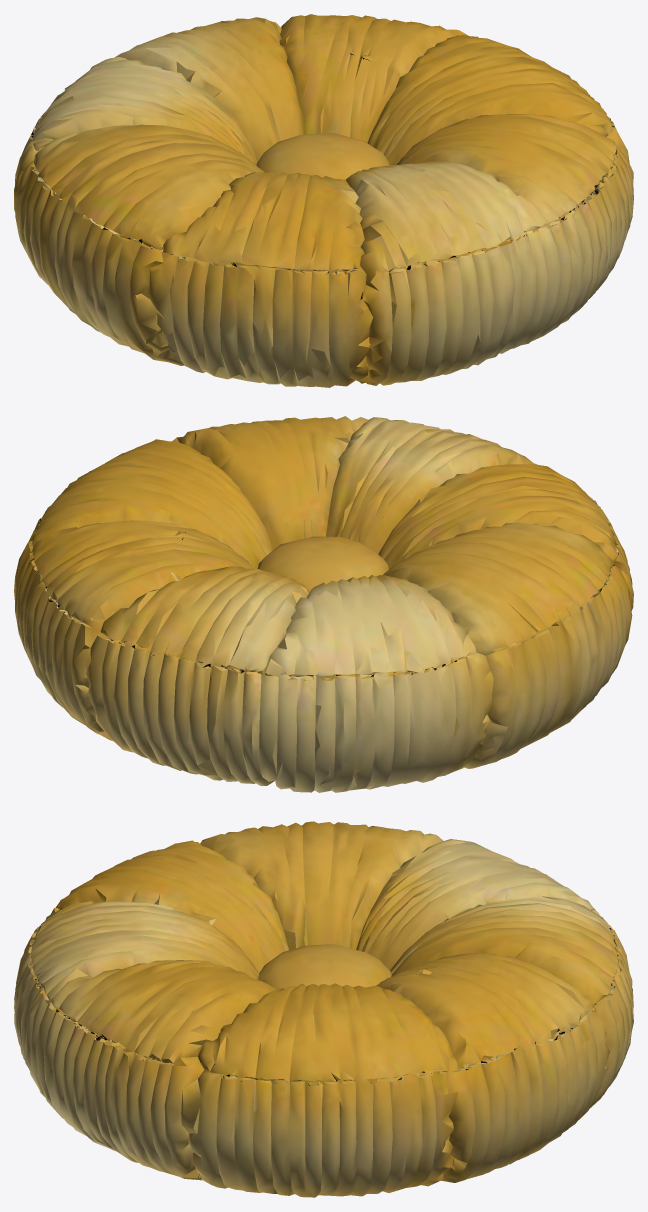
File: cojin.glb
3 views of the same model, one above another, from view 1: azimuth 30°, elevation 25°; view 2: azimuth 150°, elevation 25°; view 3: azimuth 270°, elevation 25° (orthographic).
Parts seen in each view (by area): view 1: objeto; view 2: objeto; view 3: objeto.
Boxes of the visible parts, x1,y1,x2,y2 form: objeto: (14, 14, 633, 387); objeto: (14, 416, 633, 792); objeto: (14, 821, 633, 1197).
Size of the model in its own units: 0.8357 by 0.2712 by 0.8401.
Materials: 1 (1 with a texture image).
